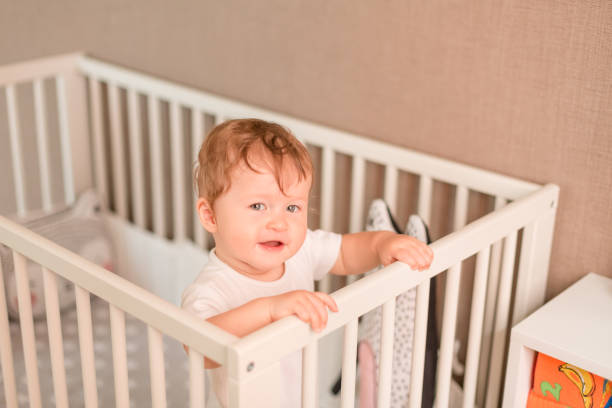baby: (182, 119, 432, 336)
crib: (0, 54, 557, 407)
